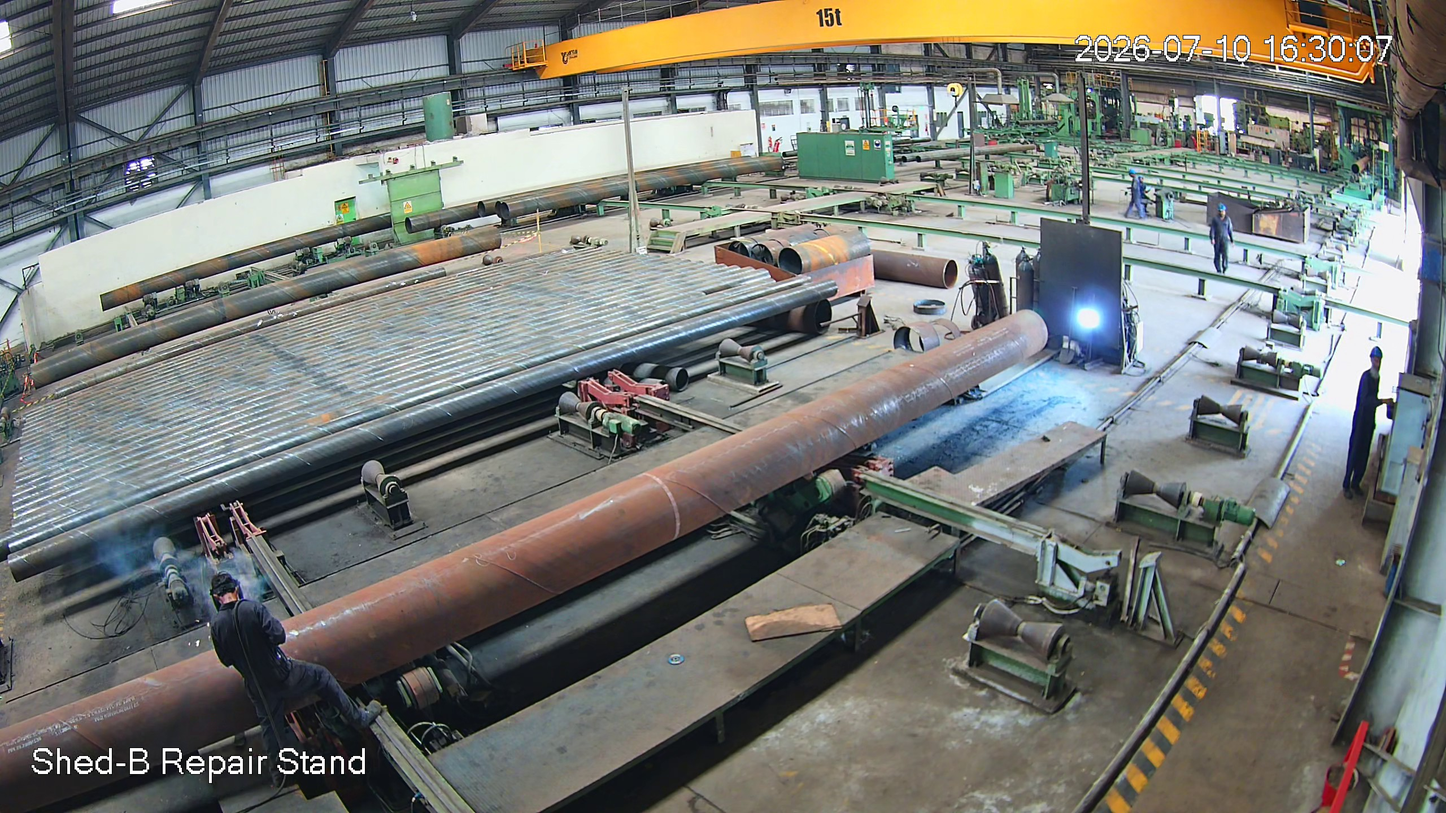Helmet: (1358, 337, 1391, 383), (1212, 200, 1233, 222)
Person: (203, 573, 384, 786), (1348, 338, 1394, 472), (1207, 204, 1240, 273)
